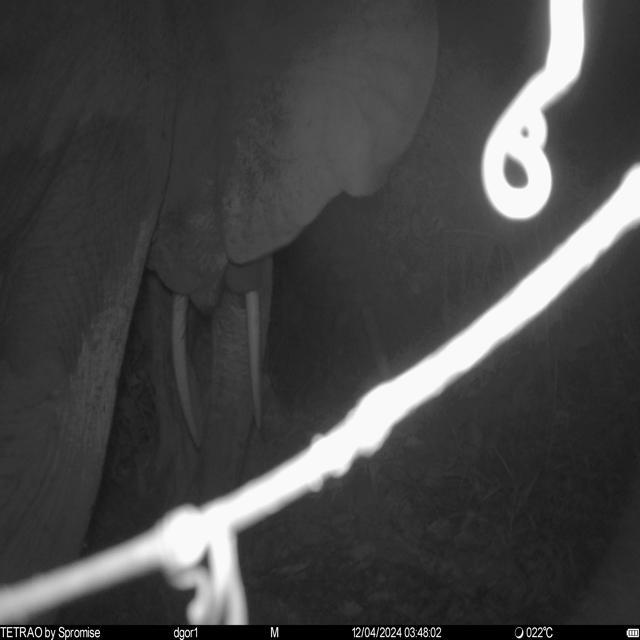ear: (225, 0, 442, 267)
elephant: (0, 2, 442, 626)
tusk: (170, 292, 203, 452), (246, 290, 264, 432)
